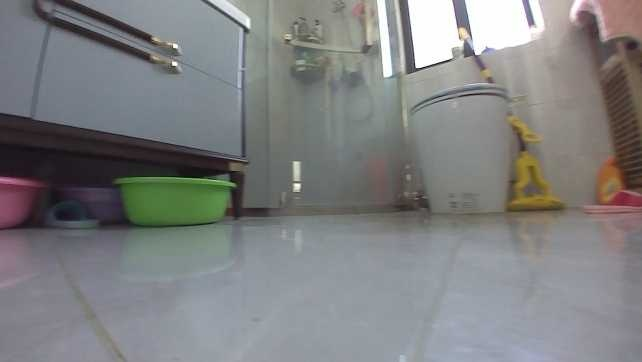slipper: (580, 186, 641, 212)
toilet: (408, 81, 514, 217)
